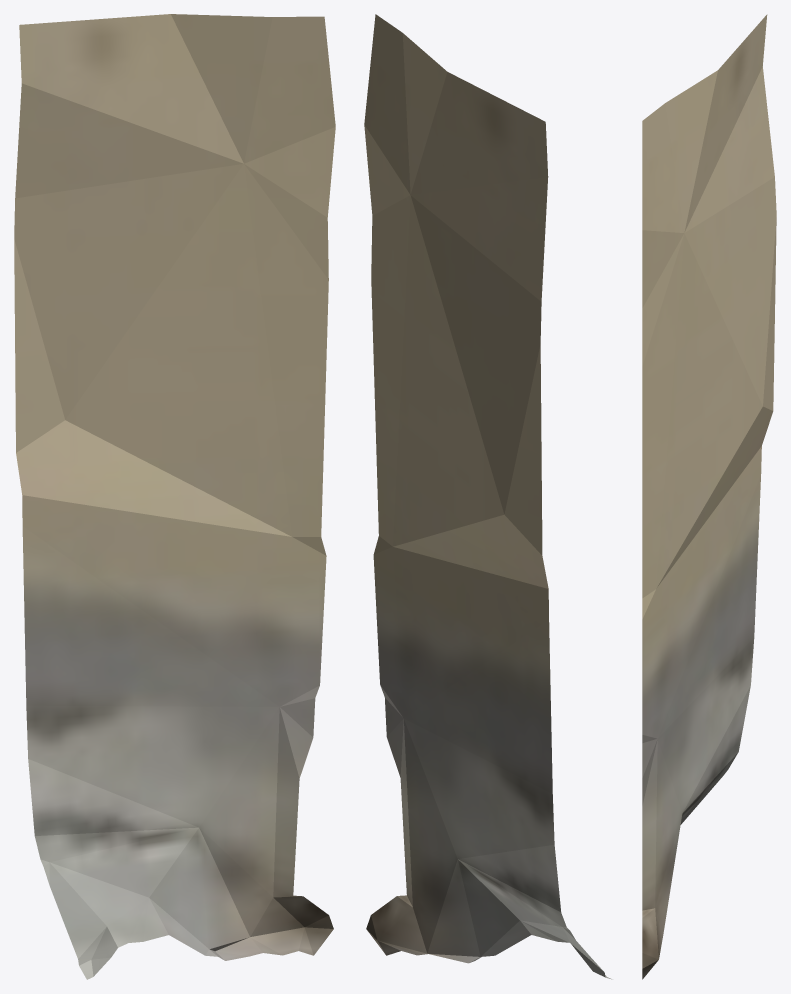
3 renders of one model, left to right at view 1: azimuth 30°, elevation 25°; view 2: azimuth 150°, elevation 25°; view 3: azimuth 270°, elevation 25°, orthographic. The views are drawn at different scales.
Size of the model in its own units: 0.2387 by 0.8588 by 0.1211.
1 material, 1 textured.
